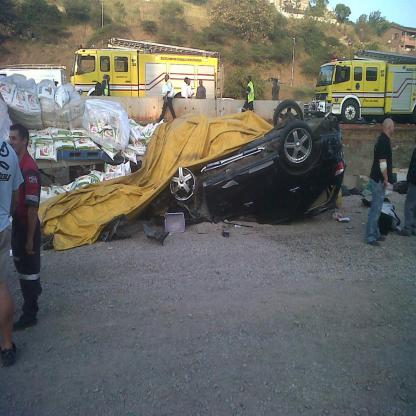face: (10, 132, 24, 155), (389, 123, 395, 134), (108, 77, 111, 82), (166, 77, 169, 82), (200, 81, 203, 86), (189, 80, 191, 86), (188, 79, 190, 84), (274, 81, 276, 86), (248, 78, 250, 82)
